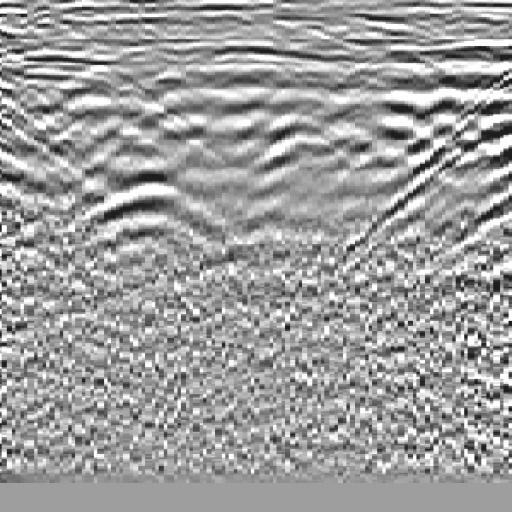metalic: (72, 147, 242, 273)
nonmetalic: (339, 43, 512, 285)
